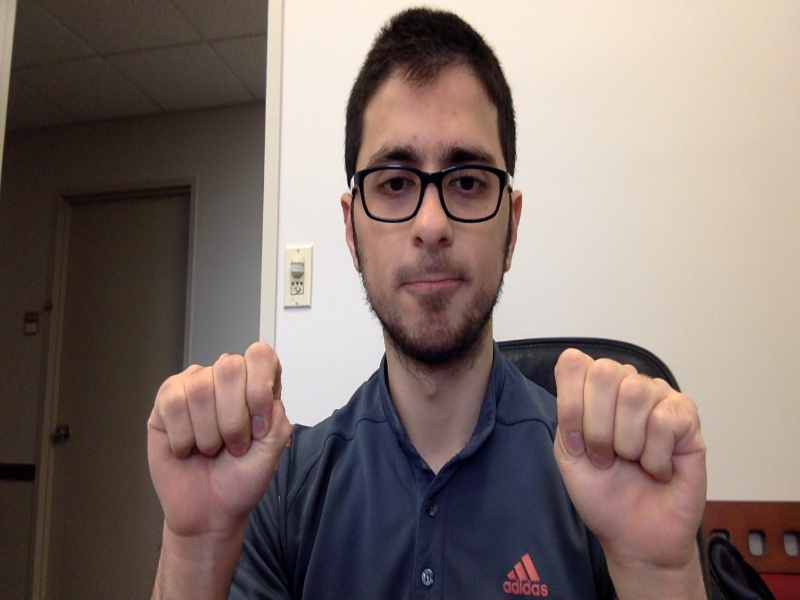0-hand: (551, 347, 706, 558), (145, 343, 286, 534)
